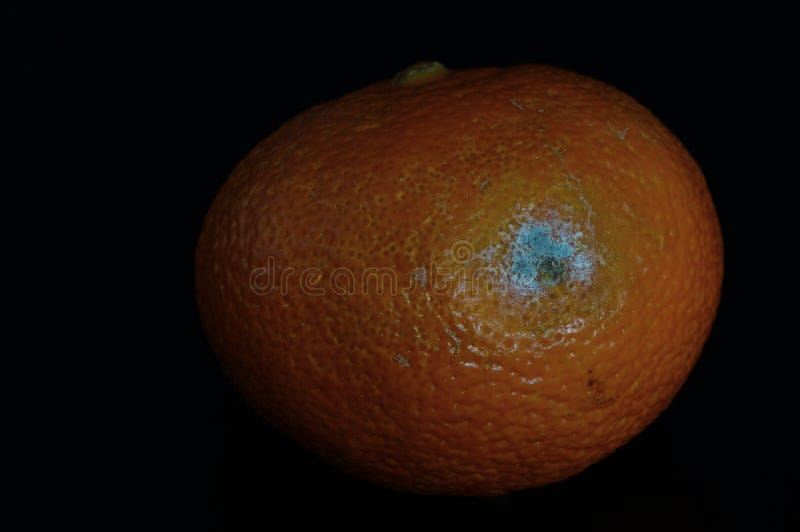Defected Orange: (206, 64, 710, 494)
